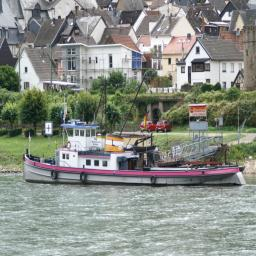tugboat: (22, 93, 249, 192)
